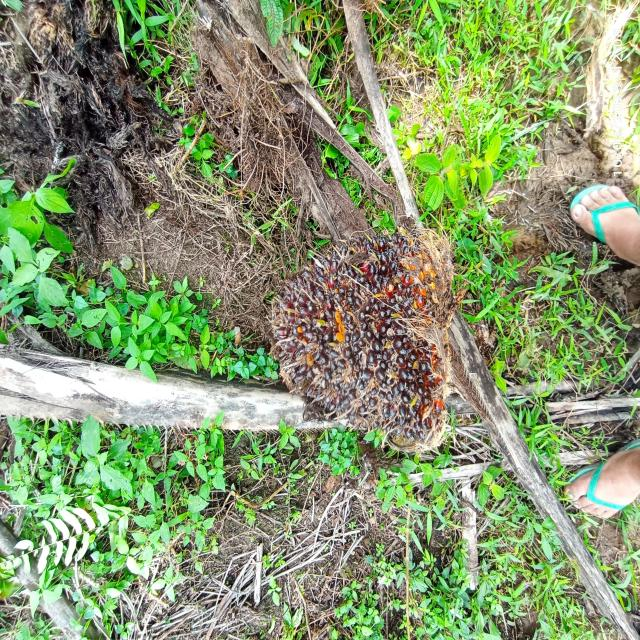fraksi 00: (258, 198, 493, 496)
